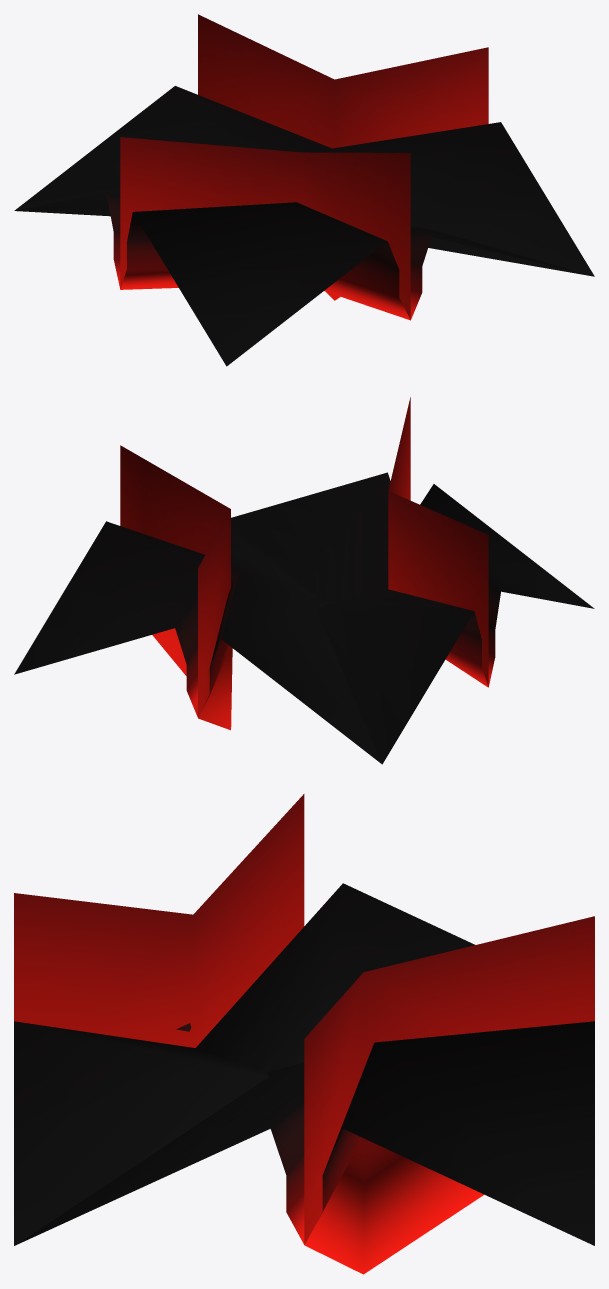
The picture shows the model from 3 angles, top to bottom: view 1: azimuth 30°, elevation 25°; view 2: azimuth 150°, elevation 25°; view 3: azimuth 270°, elevation 25°; orthographic projection. The views are drawn at different scales.
Visible parts, largest first — view 1: 9264; view 2: 9264; view 3: 9264.
Part boxes in pixels (x1,y1,x2,y2): 9264: (14, 14, 594, 366); 9264: (14, 397, 594, 764); 9264: (14, 794, 594, 1274).
Size of the model in its own units: 128 by 84.39 by 128.
